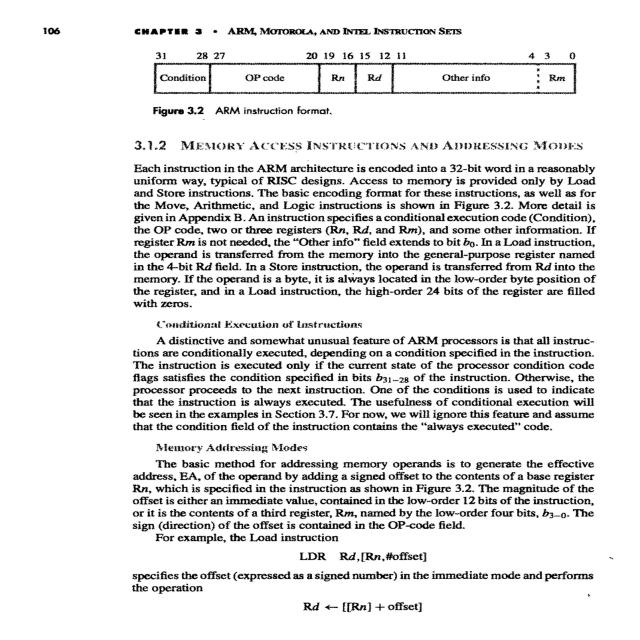diagram: (121, 42, 610, 123)
